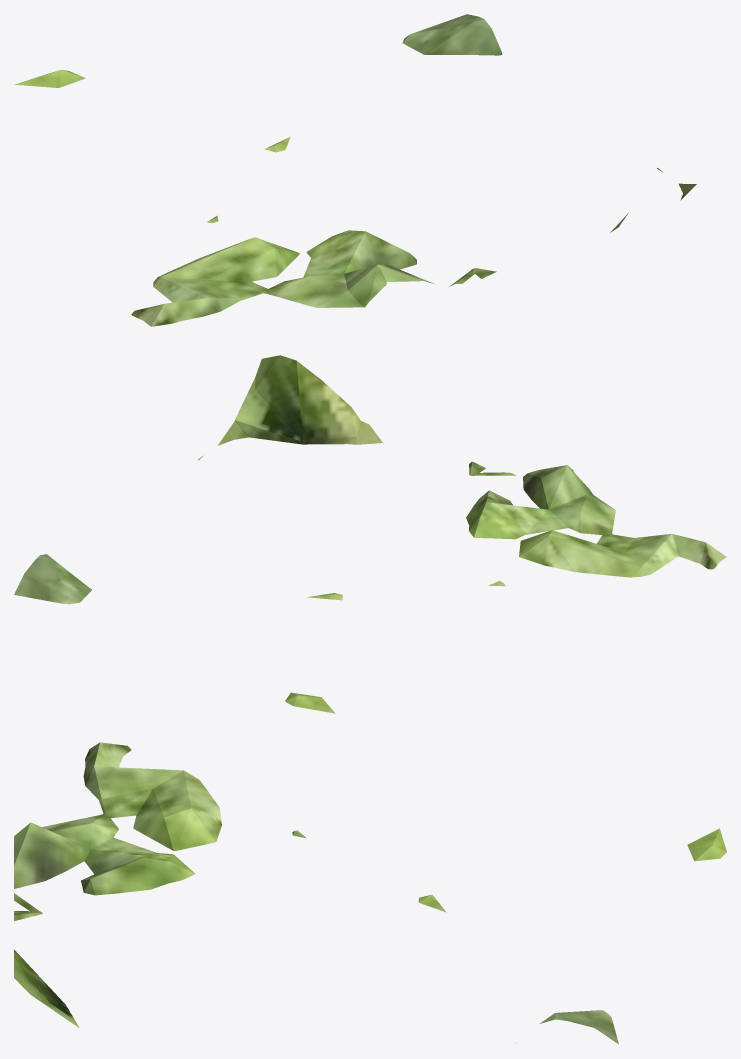
3 renders of one model, top to bottom at view 1: azimuth 30°, elevation 25°; view 2: azimuth 150°, elevation 25°; view 3: azimuth 270°, elevation 25°, orthographic. The views are drawn at different scales.
Bounding box in the file's own units: 11.95 × 1.44 × 12.12.
1 material, 1 textured.
